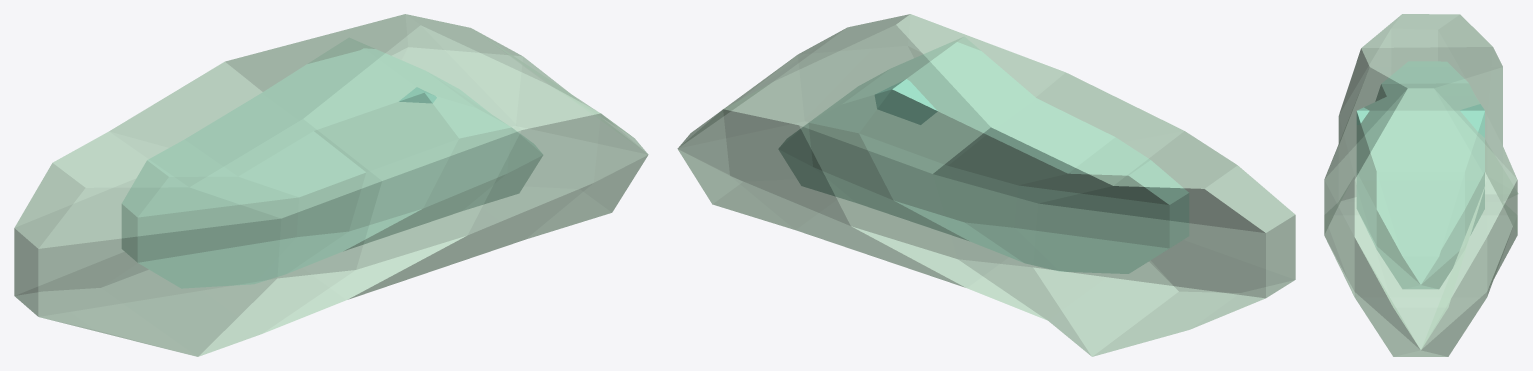
Rendered from windElement.fbx.
3 renders of one model, left to right at view 1: azimuth 30°, elevation 25°; view 2: azimuth 150°, elevation 25°; view 3: azimuth 270°, elevation 25°, orthographic. The views are drawn at different scales.
Parts seen in each view (by area): view 1: Wind, InWind; view 2: Wind, InWind; view 3: Wind, InWind.
Part boxes in pixels (x1,y1,x2,y2): Wind: [14, 14, 648, 356]; InWind: [122, 38, 542, 288]; Wind: [677, 14, 1295, 356]; InWind: [778, 37, 1188, 273]; Wind: [1324, 14, 1518, 356]; InWind: [1356, 61, 1484, 288].
Bounding box in the file's own units: 0.4053 × 0.1539 × 0.1277.
